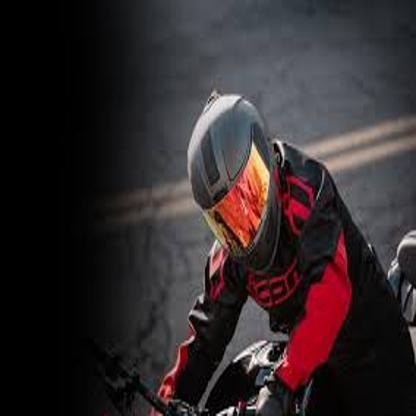not trash: (190, 88, 283, 275)
